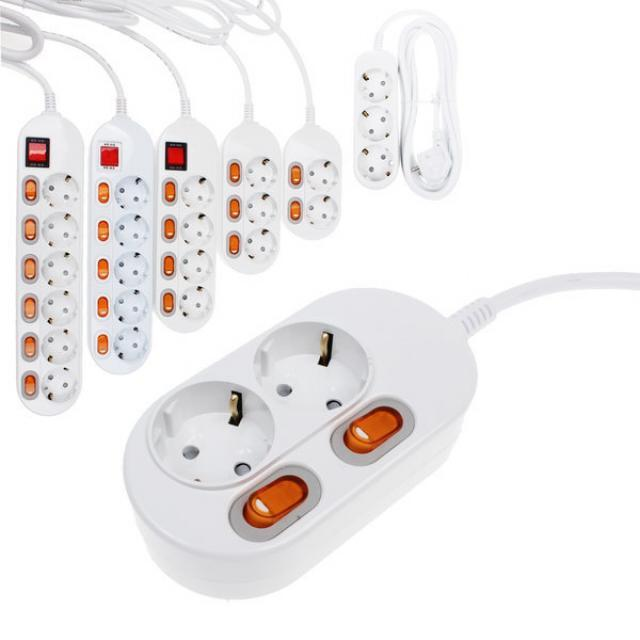typeb: (122, 274, 518, 612)
